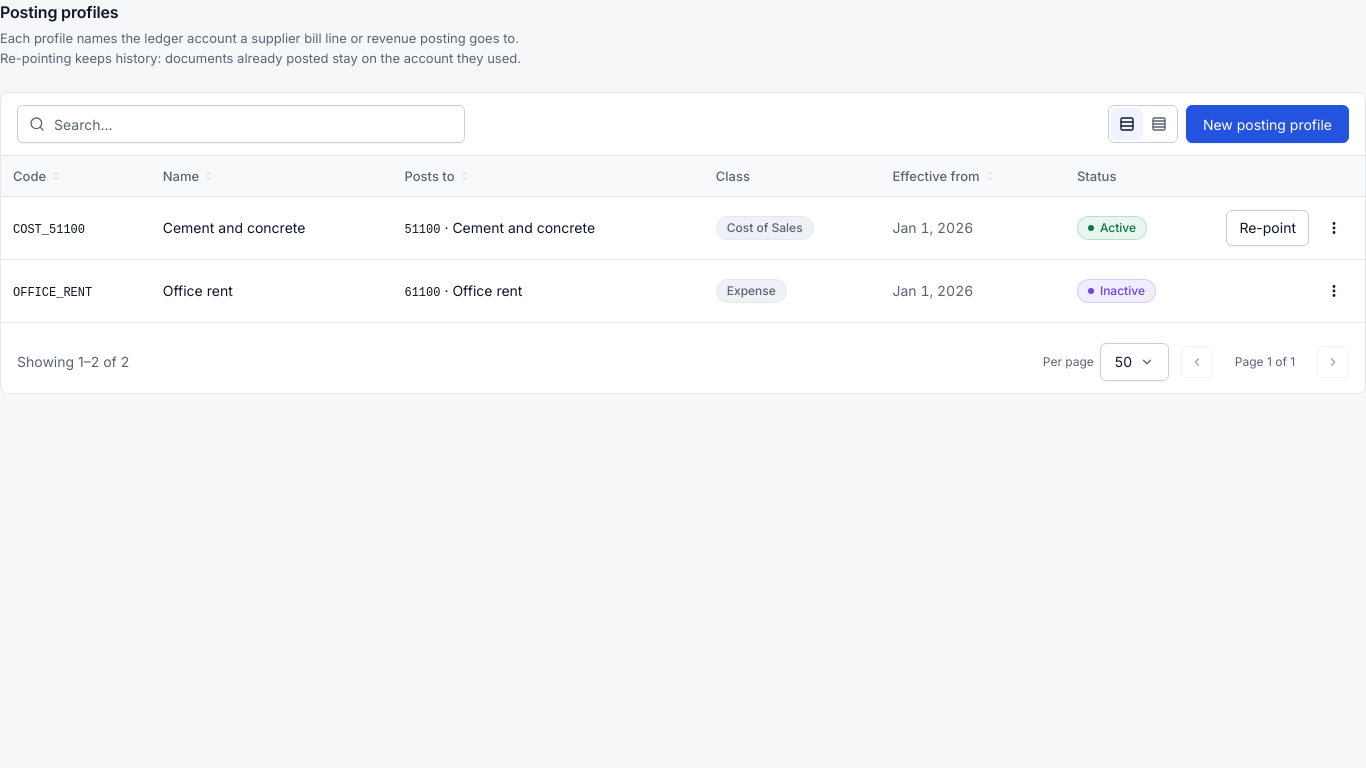
Test case: PostingProfiles — creating › explains a 409 POSTING_PROFILE_CODE_TAKEN from the server
Expected: the text "COST_51100" is shown, top-left (13, 222), bottom-right (85, 236)
Click the button "New posting profile". click: x=1267, y=124
box: top-left (1186, 105), bottom-right (1349, 143)
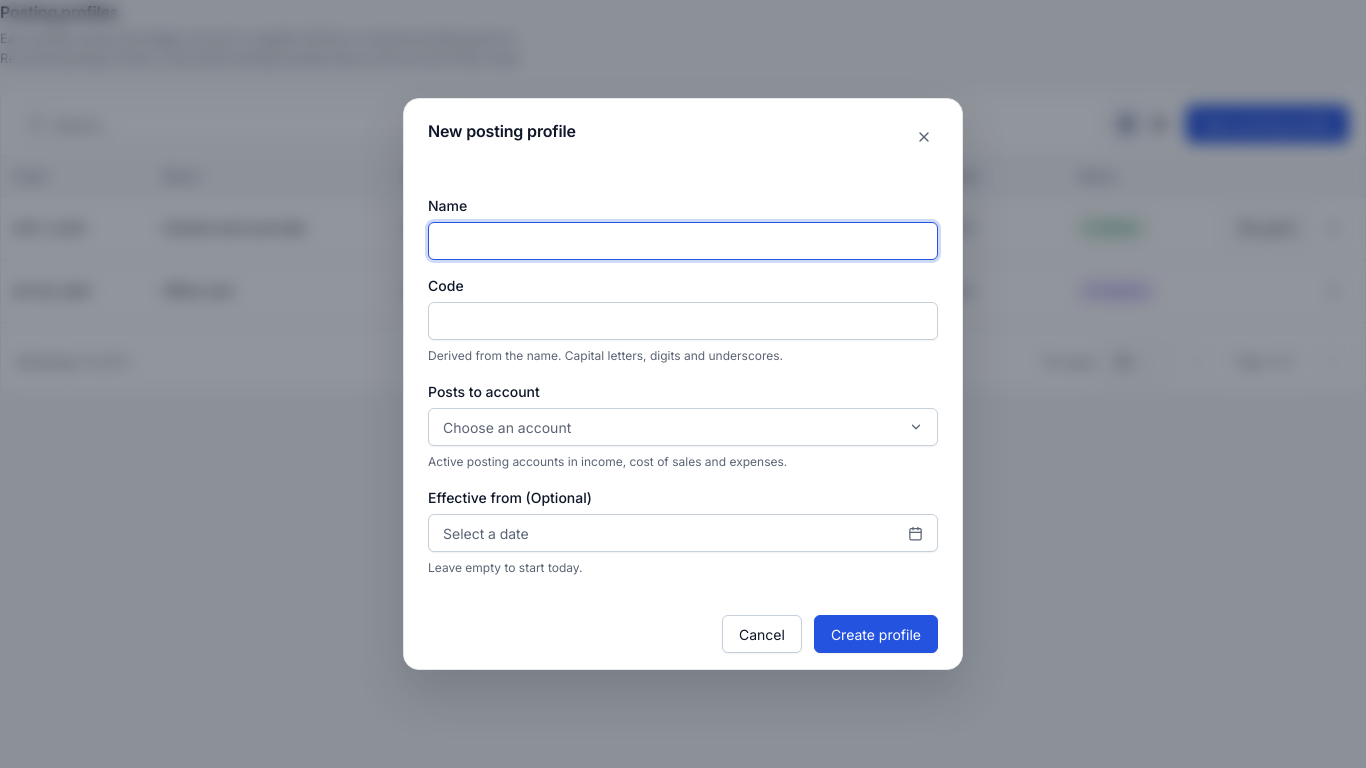
Type "Office rent 2" into the field labelled "Name". click: x=683, y=241
box: top-left (428, 222), bottom-right (938, 260)
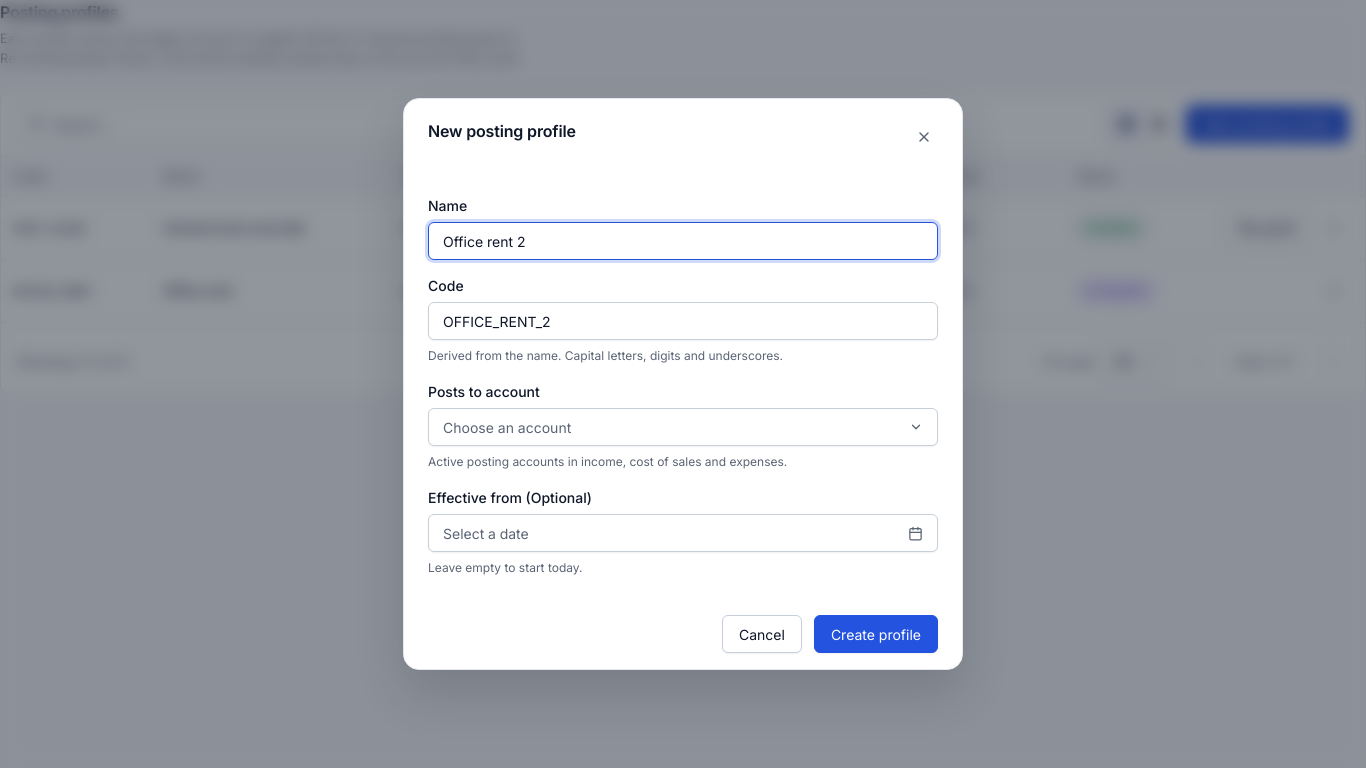
Click the dropdown named "Posts to account". click: x=507, y=427
box: top-left (428, 408), bottom-right (938, 446)
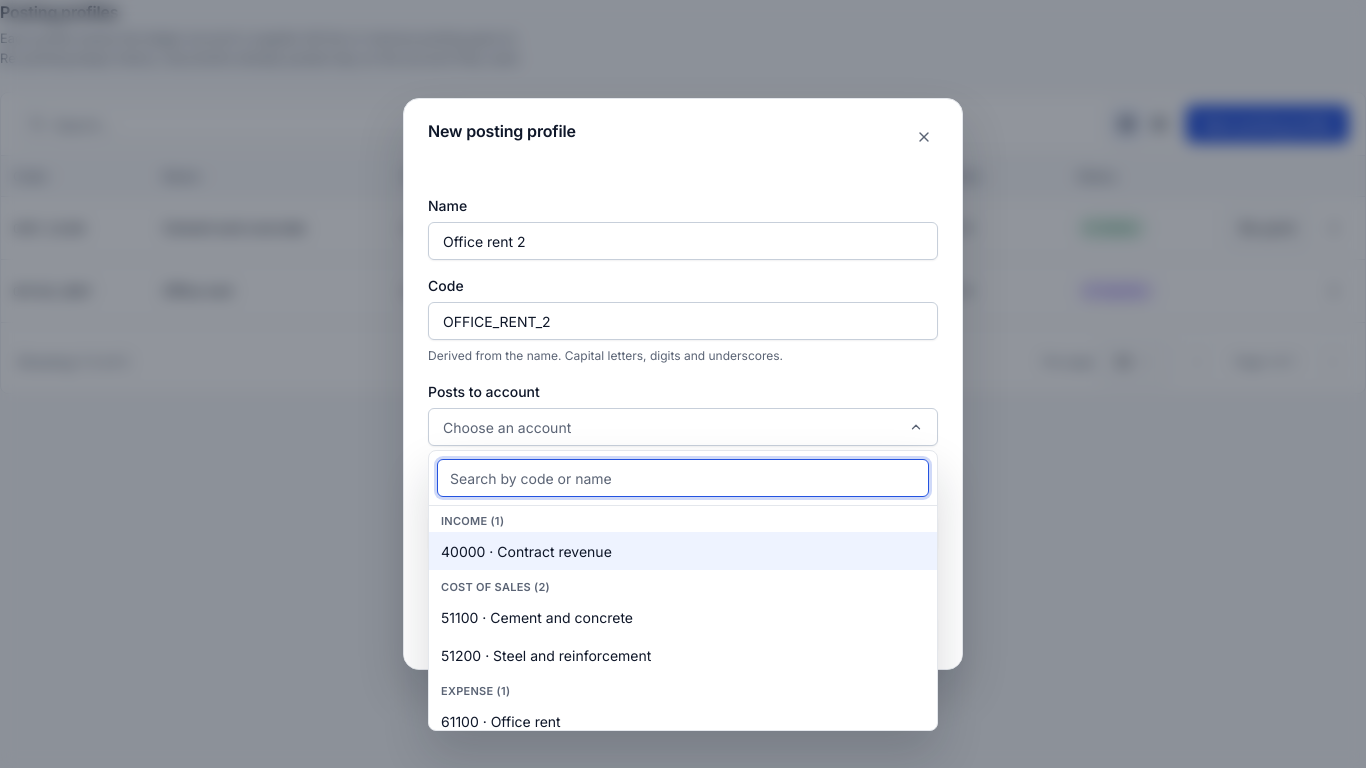
Click the option "61100 · Office rent". click: x=501, y=721
box: top-left (429, 702), bottom-right (937, 740)
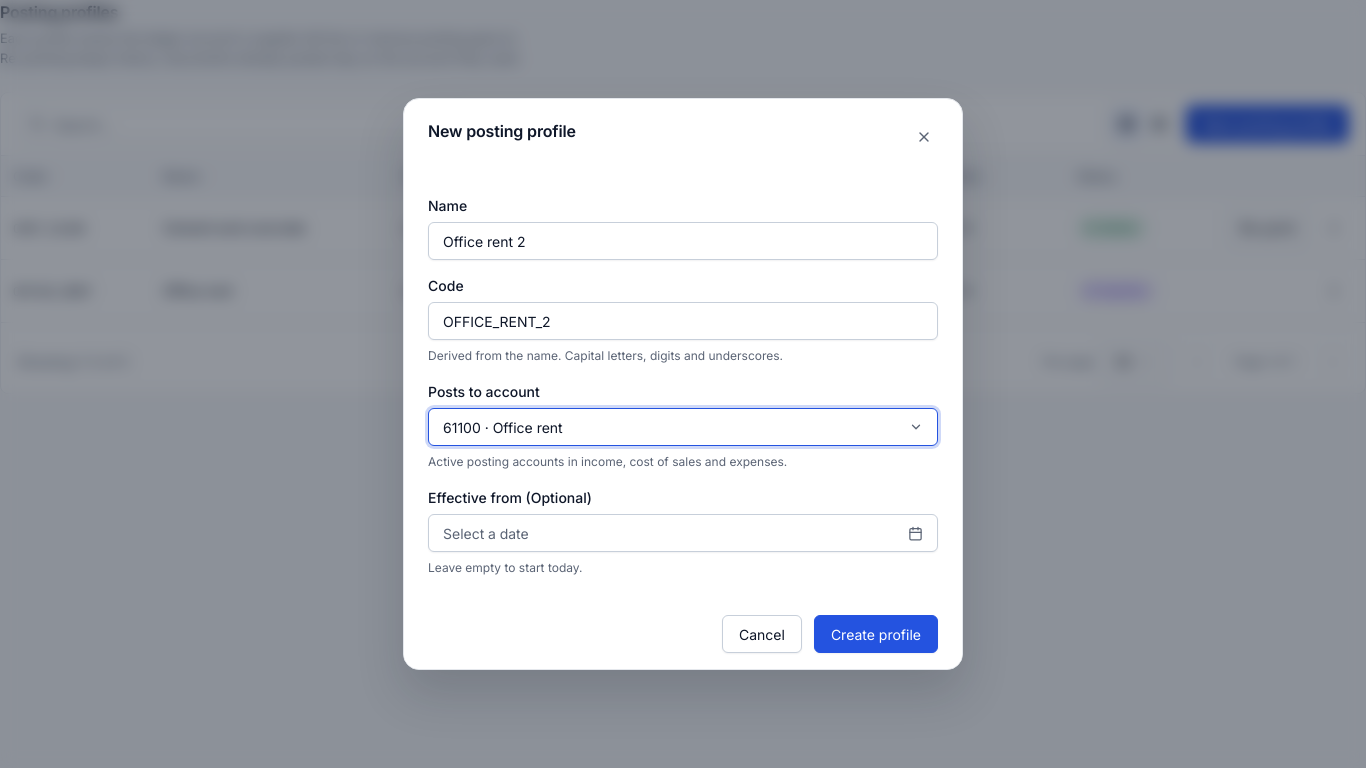
Click the button "Create profile". click: x=876, y=634
box: top-left (814, 615), bottom-right (938, 653)
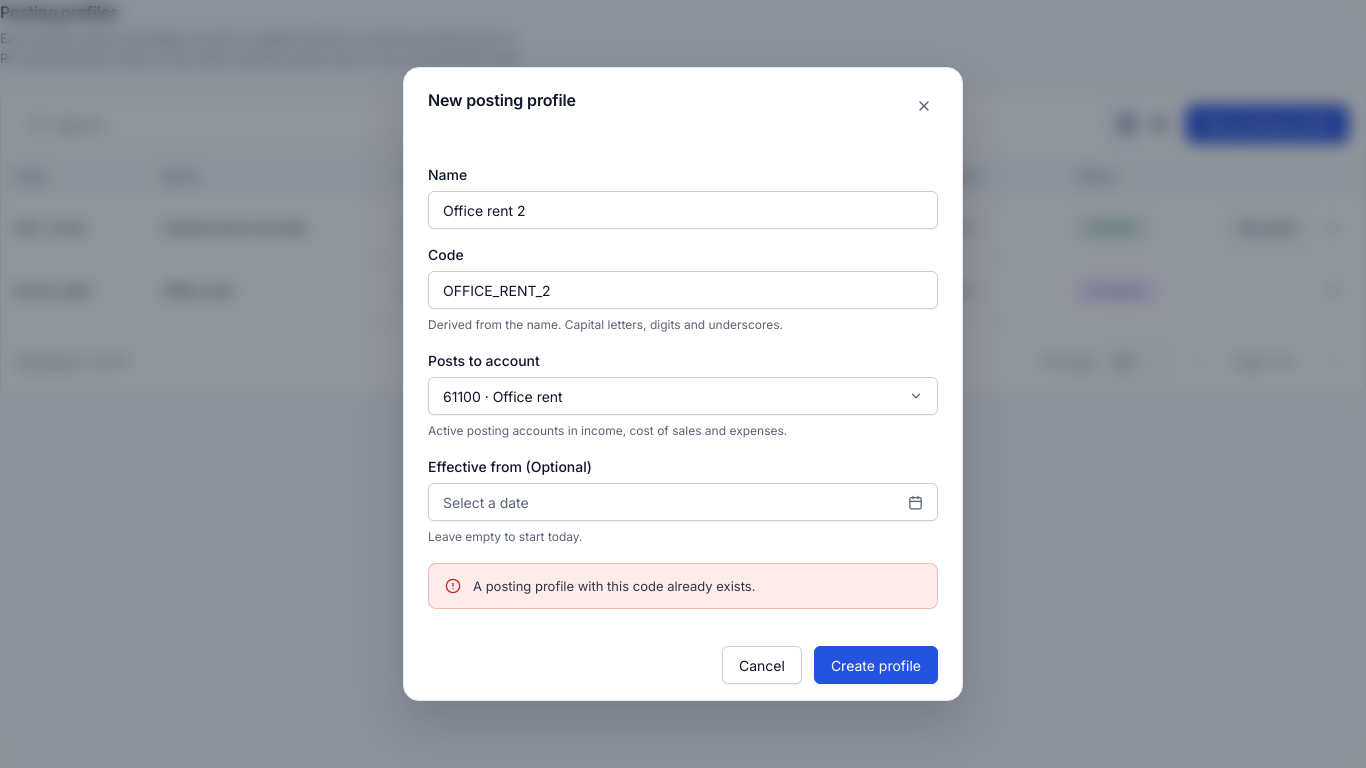
Now the text "A posting profile with this code already exists." is shown, box top-left (473, 578), bottom-right (755, 594)
